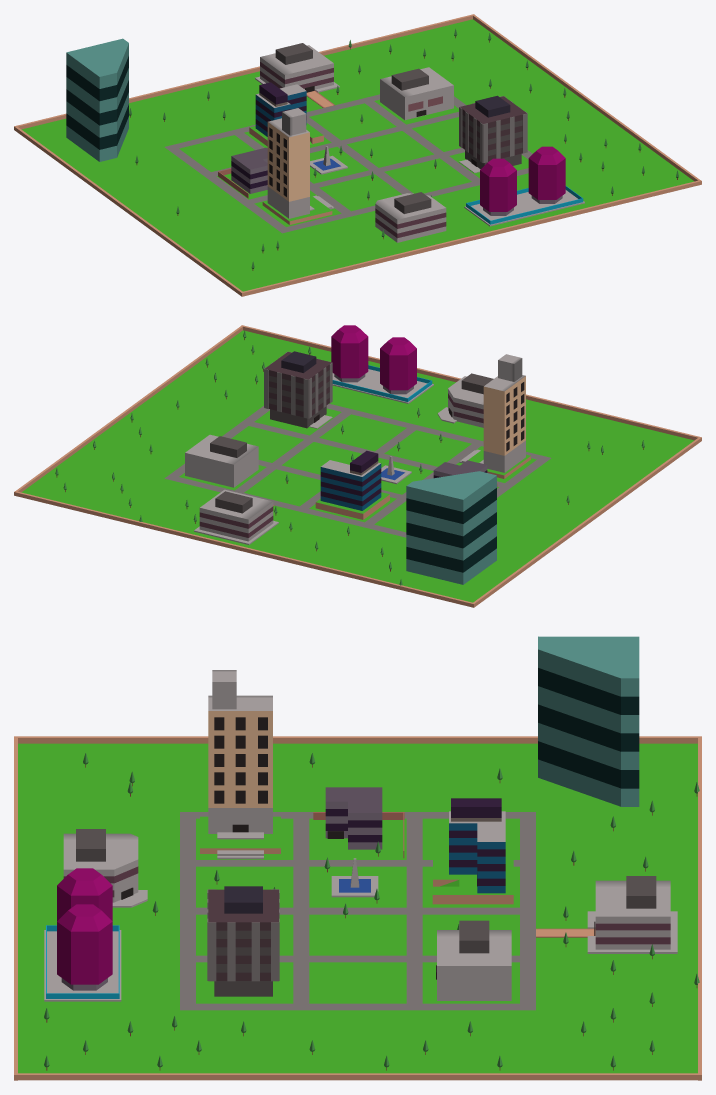
The model's file is super_mega_world4.glb.
The picture shows the model from 3 angles, top to bottom: view 1: azimuth 30°, elevation 25°; view 2: azimuth 150°, elevation 25°; view 3: azimuth 270°, elevation 25°; orthographic projection. The views are drawn at different scales.
Parts seen in each view (by area): view 1: Cube.023; view 2: Cube.023; view 3: Cube.023.
Boxes of the visible parts, x1,y1,x2,y2 form: Cube.023: [14, 14, 701, 296]; Cube.023: [14, 325, 701, 607]; Cube.023: [14, 636, 701, 1080].
Bounding box in the file's own units: 396 × 85.51 × 340.
Materials: 1 (1 with a texture image).
